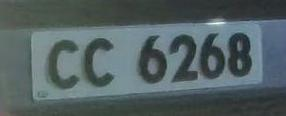2: (163, 25, 202, 90)
6: (132, 28, 174, 91), (196, 24, 228, 85)
8: (225, 26, 260, 84)
C: (41, 33, 87, 96), (77, 32, 124, 93)
